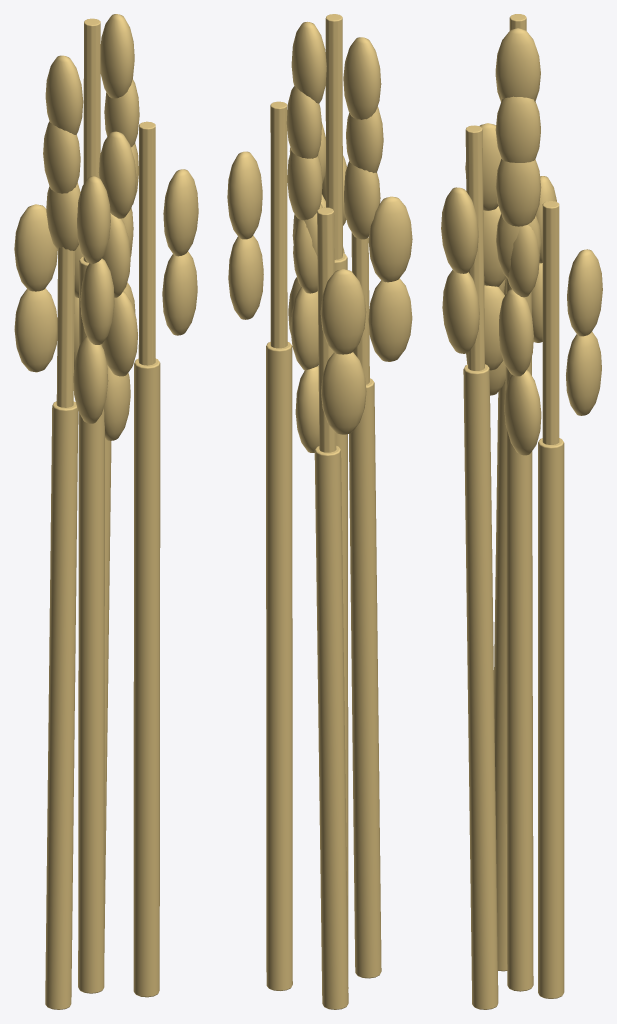
File: WF_Quaternius_Wheat_RoundPass01.fbx
3 renders of one model, left to right at view 1: azimuth 30°, elevation 25°; view 2: azimuth 210°, elevation 25°; view 3: azimuth 270°, elevation 25°, orthographic.
Parts seen in each view (by area): view 1: WF_RoundPass01_Wheat_Stem_2, WF_RoundPass01_Wheat_Stem_0, WF_RoundPass01_Wheat_Stem_1, WF_RoundPass01_Wheat_Head_2_axis, WF_RoundPass01_Wheat_Head_0_grain_1, WF_RoundPass01_Wheat_Head_0_grain_3, WF_RoundPass01_Wheat_Head_1_axis, WF_RoundPass01_Wheat_Head_0_axis, WF_RoundPass01_Wheat_Head_2_grain_3, WF_RoundPass01_Wheat_Head_2_grain_4, WF_RoundPass01_Wheat_Head_0_grain_4, WF_RoundPass01_Wheat_Head_1_grain_6 (+11 smaller); view 2: WF_RoundPass01_Wheat_Stem_2, WF_RoundPass01_Wheat_Stem_0, WF_RoundPass01_Wheat_Stem_3, WF_RoundPass01_Wheat_Head_2_axis, WF_RoundPass01_Wheat_Head_1_axis, WF_RoundPass01_Wheat_Head_3_grain_3, WF_RoundPass01_Wheat_Head_3_grain_1, WF_RoundPass01_Wheat_Head_0_grain_3, WF_RoundPass01_Wheat_Head_0_grain_1, WF_RoundPass01_Wheat_Head_3_axis, WF_RoundPass01_Wheat_Head_1_grain_5, WF_RoundPass01_Wheat_Stem_1 (+11 smaller); view 3: WF_RoundPass01_Wheat_Stem_2, WF_RoundPass01_Wheat_Stem_3, WF_RoundPass01_Wheat_Stem_1, WF_RoundPass01_Wheat_Stem_0, WF_RoundPass01_Wheat_Head_3_axis, WF_RoundPass01_Wheat_Head_2_axis, WF_RoundPass01_Wheat_Head_1_grain_6, WF_RoundPass01_Wheat_Head_1_grain_4, WF_RoundPass01_Wheat_Head_2_grain_3, WF_RoundPass01_Wheat_Head_1_grain_2, WF_RoundPass01_Wheat_Head_2_grain_1, WF_RoundPass01_Wheat_Head_3_grain_3 (+11 smaller).
Part boxes in pixels (left/top/right/bottom): WF_RoundPass01_Wheat_Stem_2: left=133, top=358, right=160, bottom=997; WF_RoundPass01_Wheat_Stem_0: left=45, top=401, right=78, bottom=1009; WF_RoundPass01_Wheat_Stem_1: left=78, top=256, right=104, bottom=993; WF_RoundPass01_Wheat_Head_2_axis: left=138, top=121, right=155, bottom=365; WF_RoundPass01_Wheat_Head_0_grain_1: left=14, top=288, right=57, bottom=372; WF_RoundPass01_Wheat_Head_0_grain_3: left=14, top=204, right=57, bottom=291; WF_RoundPass01_Wheat_Head_1_axis: left=83, top=18, right=100, bottom=262; WF_RoundPass01_Wheat_Head_0_axis: left=56, top=247, right=74, bottom=407; WF_RoundPass01_Wheat_Head_2_grain_3: left=163, top=169, right=198, bottom=256; WF_RoundPass01_Wheat_Head_2_grain_4: left=98, top=131, right=136, bottom=218; WF_RoundPass01_Wheat_Head_0_grain_4: left=77, top=176, right=110, bottom=263; WF_RoundPass01_Wheat_Head_1_grain_6: left=100, top=14, right=134, bottom=98; WF_RoundPass01_Wheat_Stem_2: left=266, top=342, right=292, bottom=990; WF_RoundPass01_Wheat_Stem_0: left=349, top=378, right=381, bottom=978; WF_RoundPass01_Wheat_Stem_3: left=314, top=446, right=348, bottom=1009; WF_RoundPass01_Wheat_Head_2_axis: left=270, top=101, right=287, bottom=348; WF_RoundPass01_Wheat_Head_1_axis: left=325, top=14, right=342, bottom=259; WF_RoundPass01_Wheat_Head_3_grain_3: left=320, top=269, right=366, bottom=354; WF_RoundPass01_Wheat_Head_3_grain_1: left=321, top=352, right=366, bottom=434; WF_RoundPass01_Wheat_Head_0_grain_3: left=368, top=196, right=412, bottom=282; WF_RoundPass01_Wheat_Head_0_grain_1: left=368, top=278, right=412, bottom=361; WF_RoundPass01_Wheat_Head_3_axis: left=317, top=207, right=336, bottom=452; WF_RoundPass01_Wheat_Head_1_grain_5: left=343, top=37, right=381, bottom=119; WF_RoundPass01_Wheat_Stem_1: left=334, top=253, right=348, bottom=988; WF_RoundPass01_Wheat_Stem_2: left=463, top=364, right=498, bottom=1009; WF_RoundPass01_Wheat_Stem_3: left=538, top=438, right=564, bottom=998; WF_RoundPass01_Wheat_Stem_1: left=505, top=277, right=533, bottom=991; WF_RoundPass01_Wheat_Stem_0: left=494, top=381, right=507, bottom=971; WF_RoundPass01_Wheat_Head_3_axis: left=542, top=201, right=559, bottom=444; WF_RoundPass01_Wheat_Head_2_axis: left=465, top=125, right=484, bottom=370; WF_RoundPass01_Wheat_Head_1_grain_6: left=495, top=28, right=540, bottom=101; WF_RoundPass01_Wheat_Head_1_grain_4: left=495, top=96, right=540, bottom=162; WF_RoundPass01_Wheat_Head_2_grain_3: left=441, top=187, right=478, bottom=273; WF_RoundPass01_Wheat_Head_1_grain_2: left=495, top=159, right=540, bottom=226; WF_RoundPass01_Wheat_Head_2_grain_1: left=442, top=270, right=479, bottom=353; WF_RoundPass01_Wheat_Head_3_grain_3: left=567, top=249, right=602, bottom=336.
Size of the model in its own units: 18.78 by 18.46 by 122.
